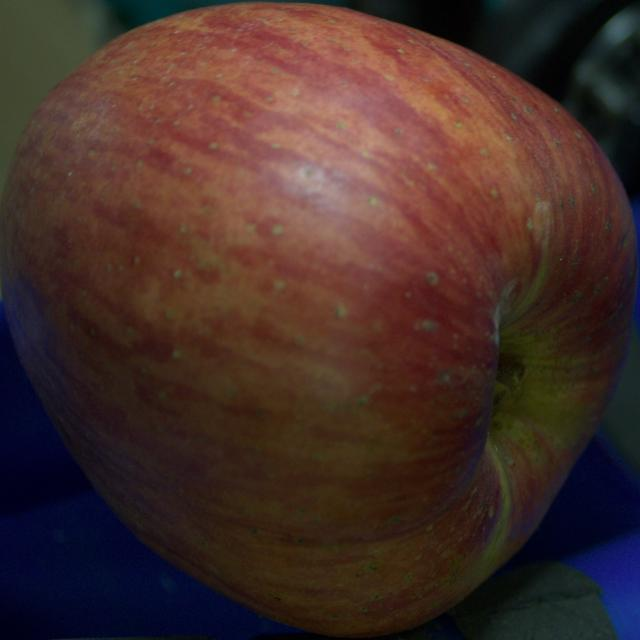apple: (0, 3, 637, 636)
